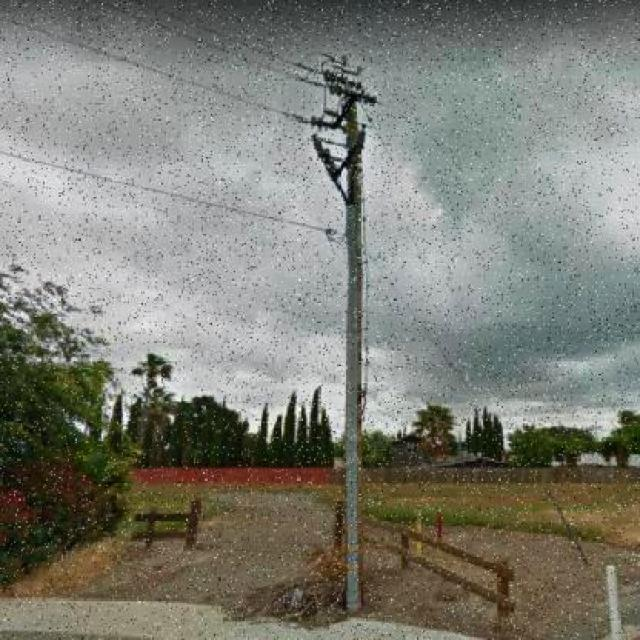crossarm: (311, 118, 372, 206), (308, 48, 382, 108), (307, 91, 379, 131)
pole: (342, 79, 365, 618)
wire: (0, 17, 311, 125), (0, 149, 342, 241), (93, 0, 310, 84), (127, 0, 316, 73)
